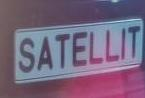1: (118, 23, 129, 63)
A: (36, 31, 56, 77)
E: (70, 28, 90, 69)
L: (87, 27, 106, 67), (103, 25, 120, 64)
S: (17, 33, 39, 78)
T: (126, 21, 144, 61), (54, 30, 71, 69)
